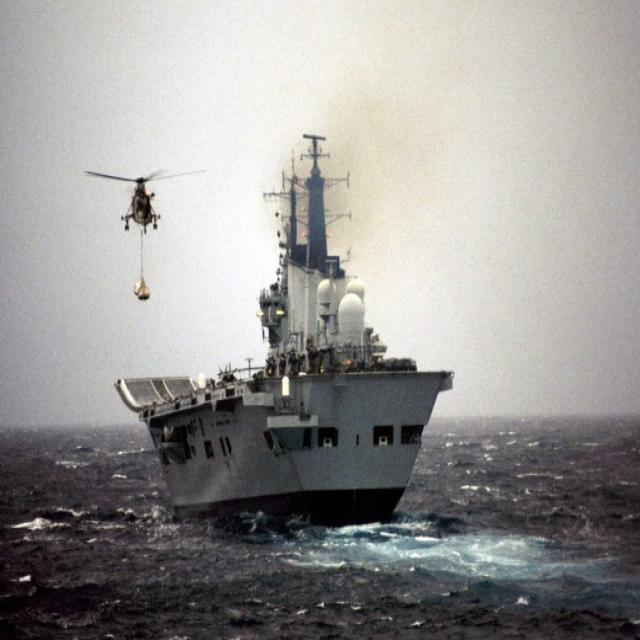Portanaves: (116, 119, 454, 530)
